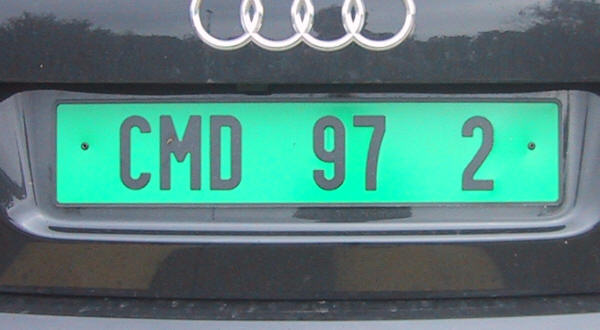number_plate: (58, 104, 561, 200)
